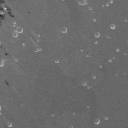corrosion: (15, 25, 24, 34), (77, 1, 88, 7), (60, 26, 68, 34), (93, 118, 101, 126), (6, 121, 14, 128), (109, 23, 116, 30), (53, 57, 60, 64), (94, 31, 100, 38), (34, 47, 42, 52), (1, 59, 5, 67), (115, 47, 120, 53), (82, 81, 87, 87), (107, 57, 112, 63), (106, 2, 112, 7), (92, 17, 97, 22), (92, 75, 96, 80)
